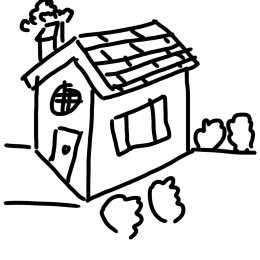closed_window: (105, 93, 174, 160), (46, 79, 86, 121)
door: (39, 122, 86, 185)
roof: (20, 18, 220, 102)
smoking_chimney: (17, 0, 79, 61)
wall: (83, 65, 195, 204)
